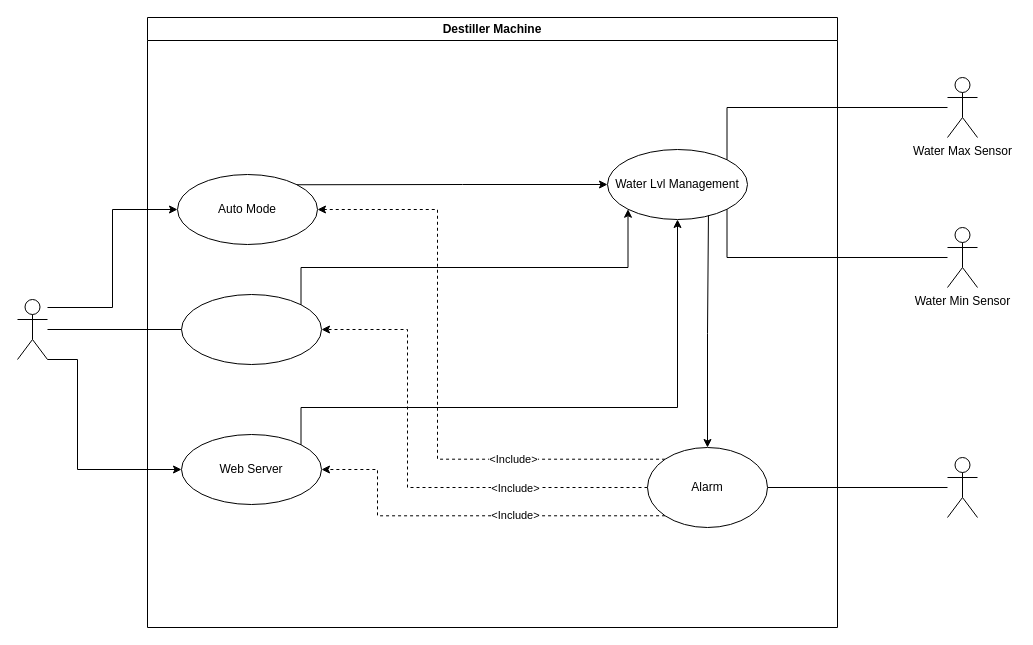
This 1033x645 diagram has some shape labels left out. Each missing label, with the centre of its shape:
"Manual Mode" goes at point 251,329.
"User" goes at point 32,329.
"Water Alarm Sensor" goes at point 962,487.
